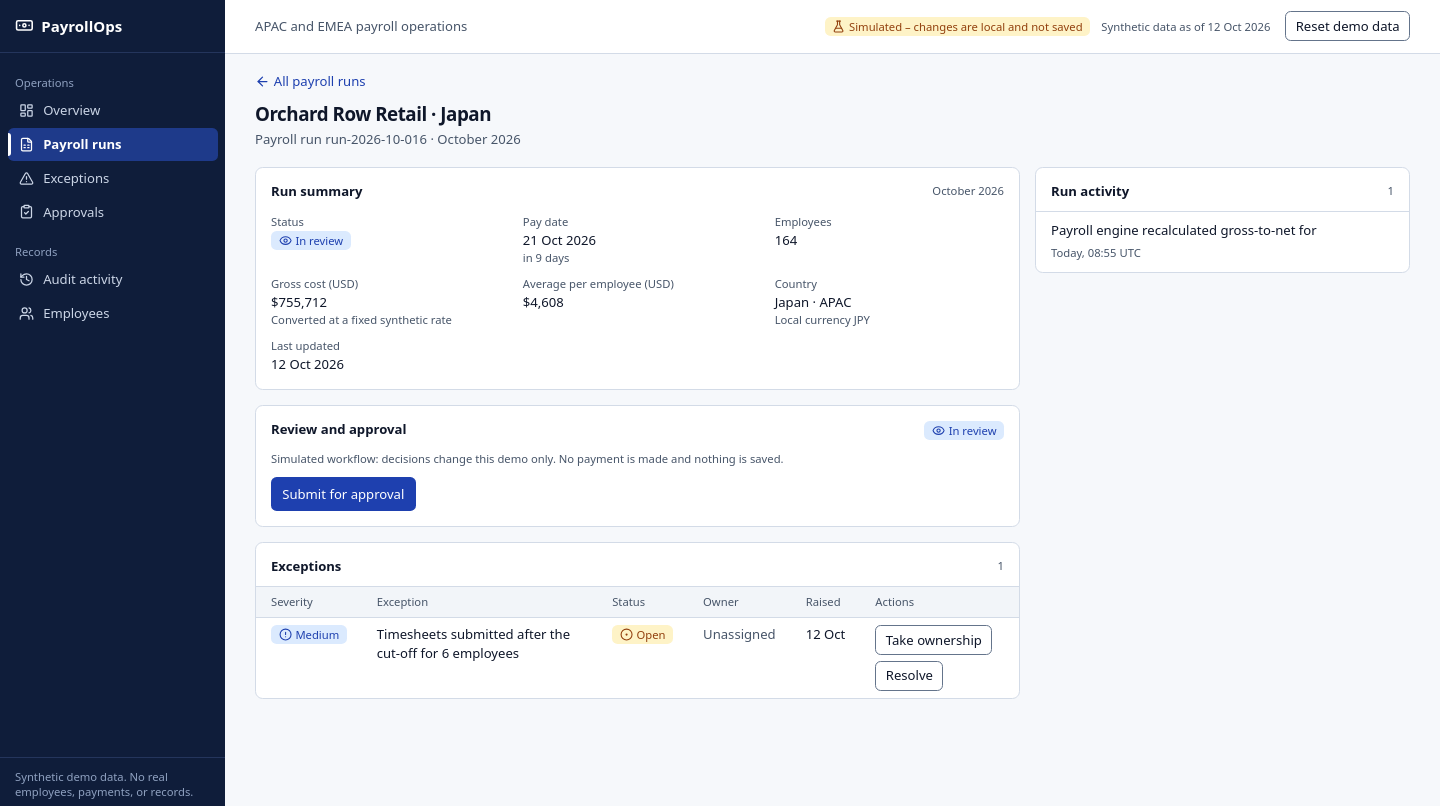
Test: one workflow, every view › does not bring back a confirmation after Reset: Submit, open Approve, Reset, Submit again
This screenshot has width=1440, height=806.
Click the button "Submit for approval" at (343, 494), box [271,477,416,511]
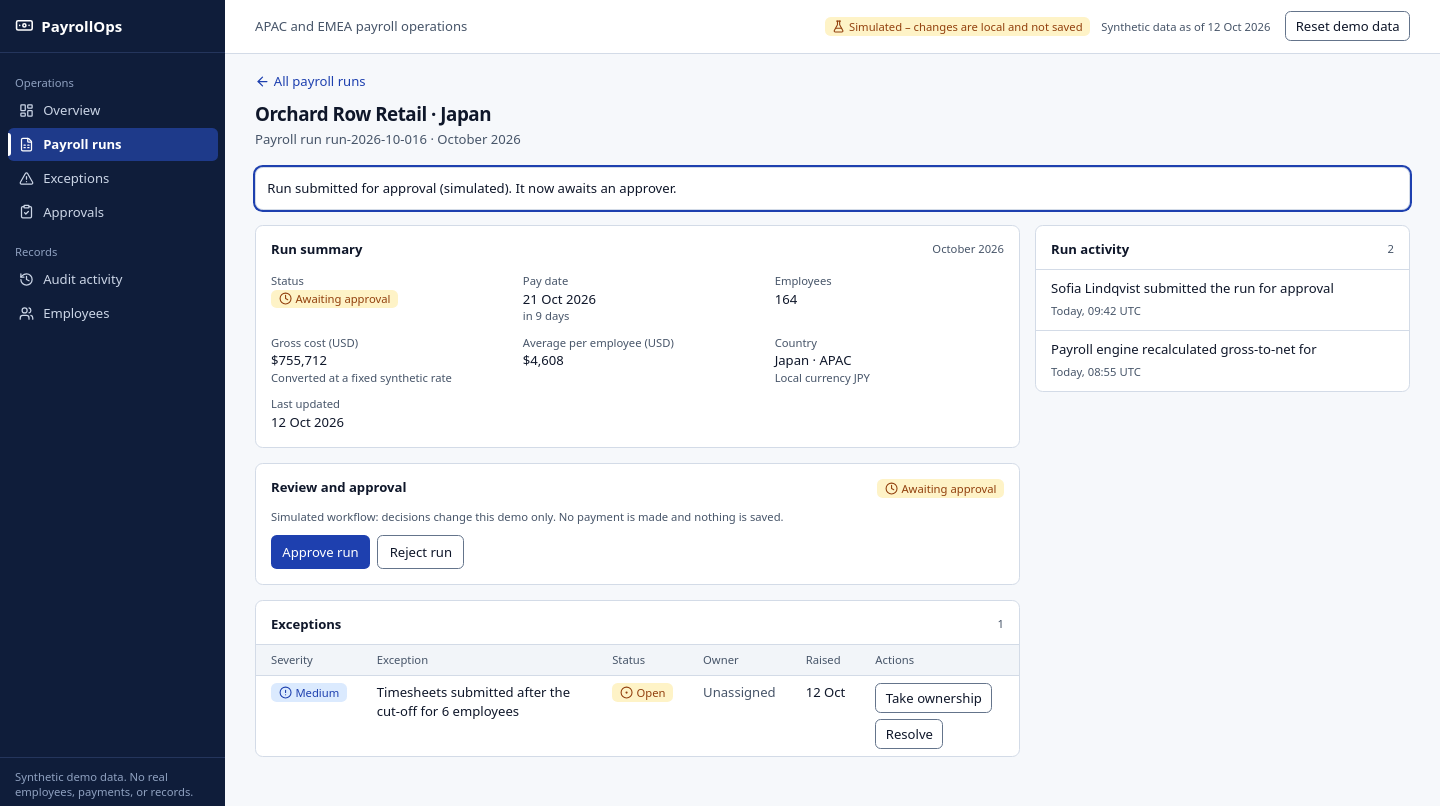
Click the button "Approve run" at (320, 552), box [271,535,370,569]
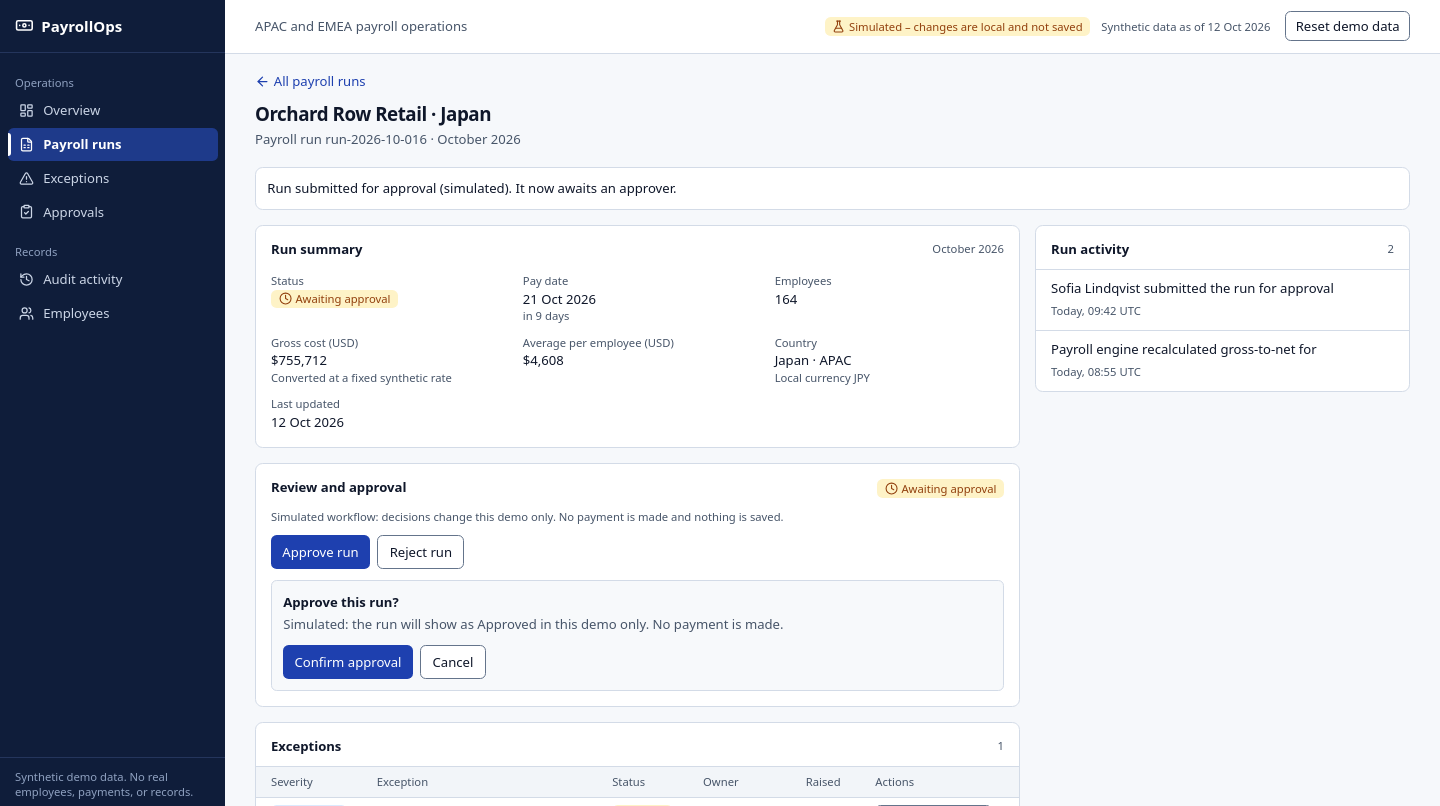
Expected: the element "Approve this run?" is shown, [271,580,1004,691]
Click the button "Reset demo data" at (1348, 26), box [1285,11,1410,41]
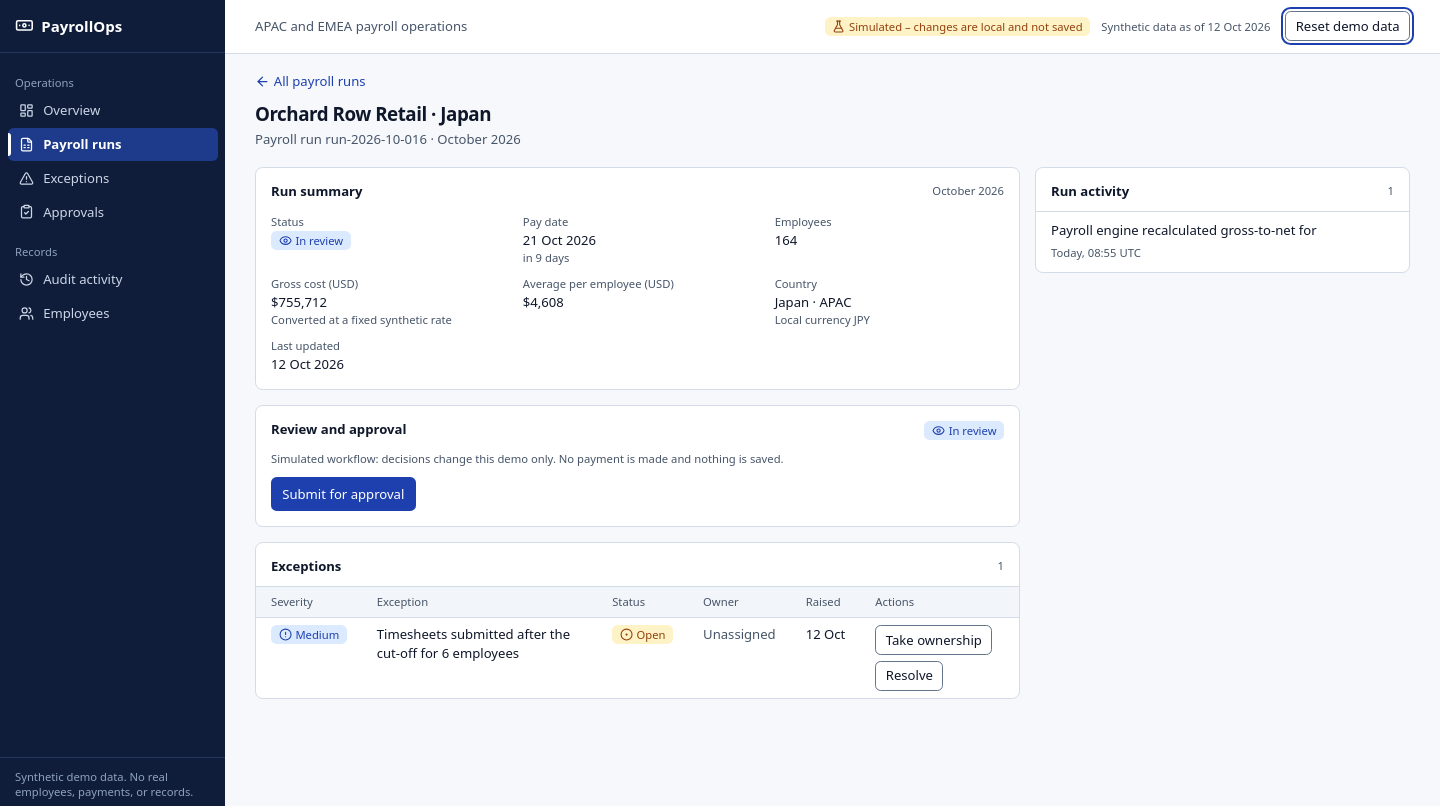
Expected: the text "In review" in the row of "21 Oct 2026" is shown, [295,233,343,248]
Click the button "Submit for approval" at (343, 494), box [271,477,416,511]
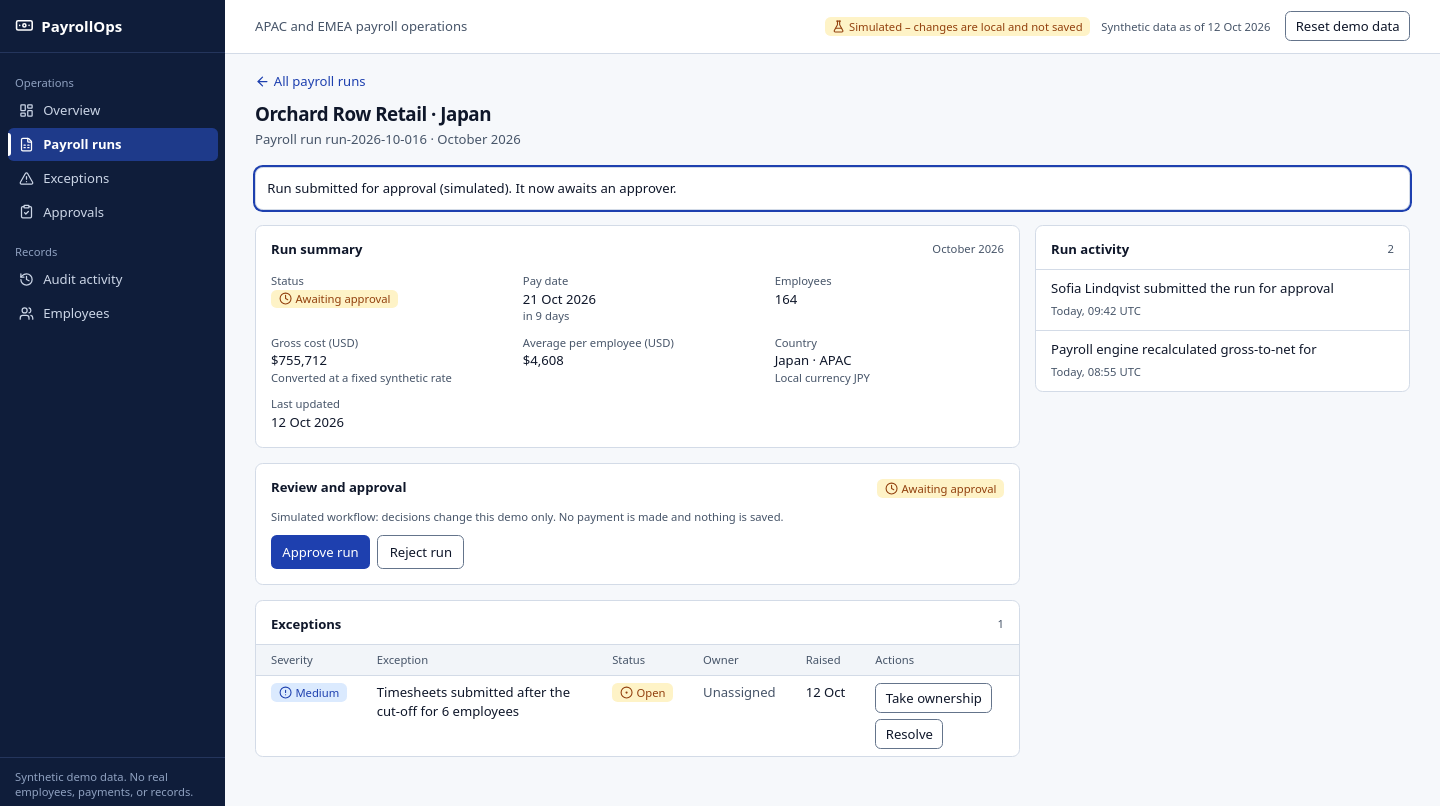
Expected: the text "Awaiting approval" next to "21 Oct 2026" is shown, [295,292,390,306]
Expected: the message shows "Run submitted for approval (simulated)", [267,179,676,197]
Note: A new confirmation appears only when the user asks for it.
Click the button "Approve run" at (320, 552), box [271,535,370,569]
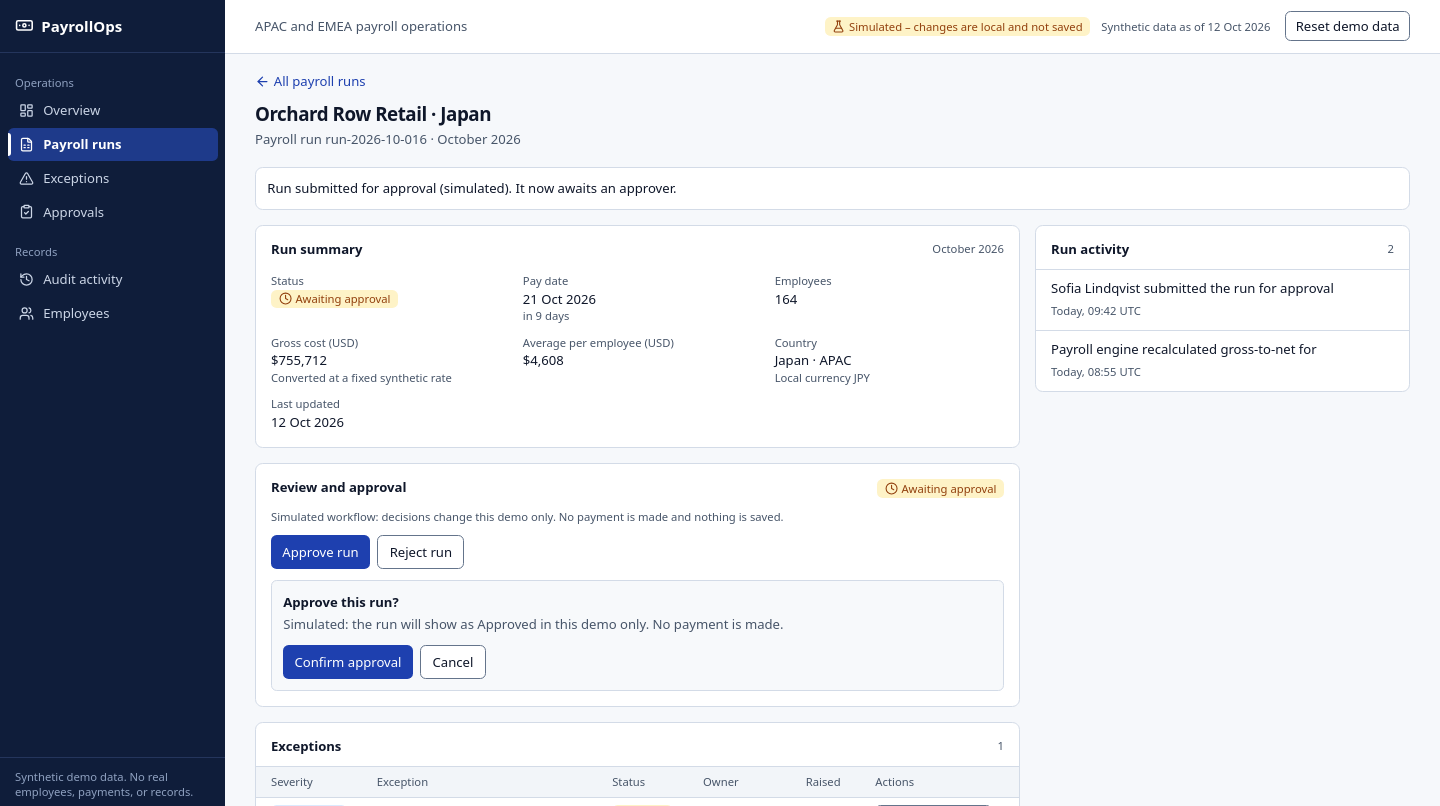
Expected: the element "Approve this run?" is shown, [271,580,1004,691]
